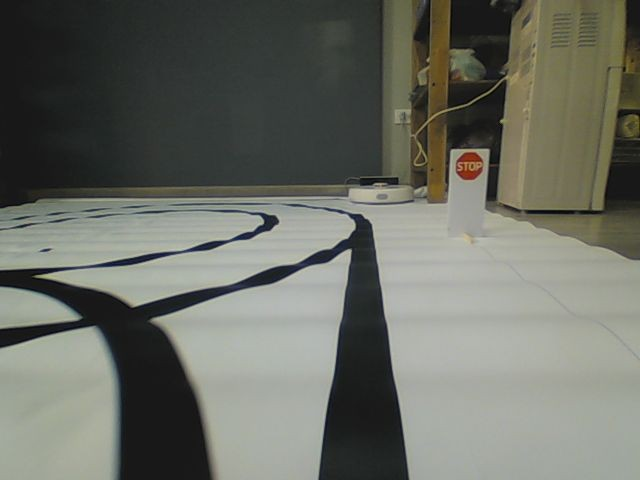Stop: (454, 153, 483, 180)
